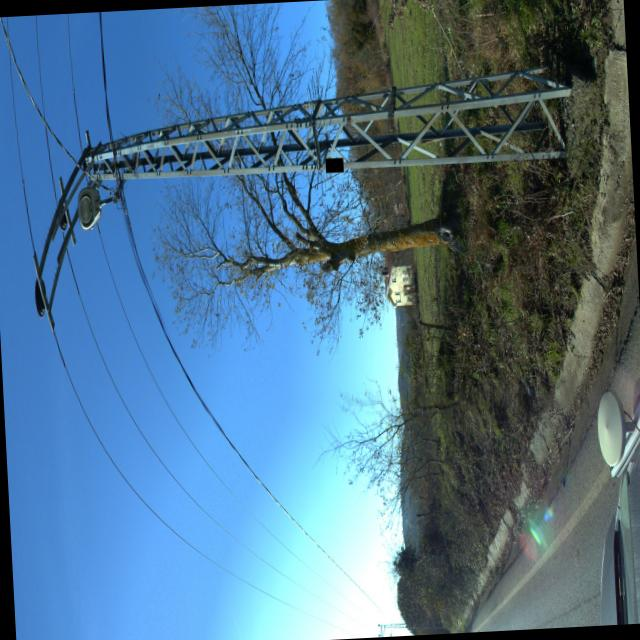Utility Pole Information Plate: (325, 157, 344, 172)
